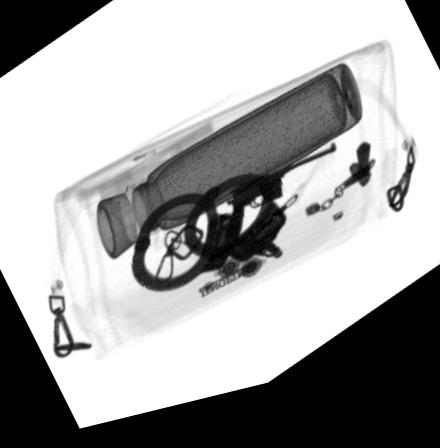Gun: (224, 159, 337, 252)
HandCuffs: (129, 184, 287, 301)
